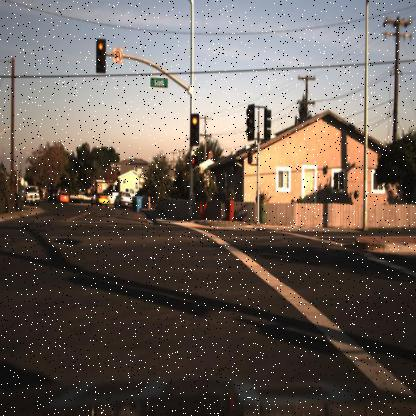car: (113, 189, 136, 212), (21, 184, 42, 208), (88, 190, 109, 211), (113, 188, 133, 209), (90, 190, 110, 210), (44, 185, 59, 206), (56, 190, 68, 207), (56, 190, 69, 205)
trafficLight-Red: (94, 35, 106, 75), (189, 111, 199, 147)
